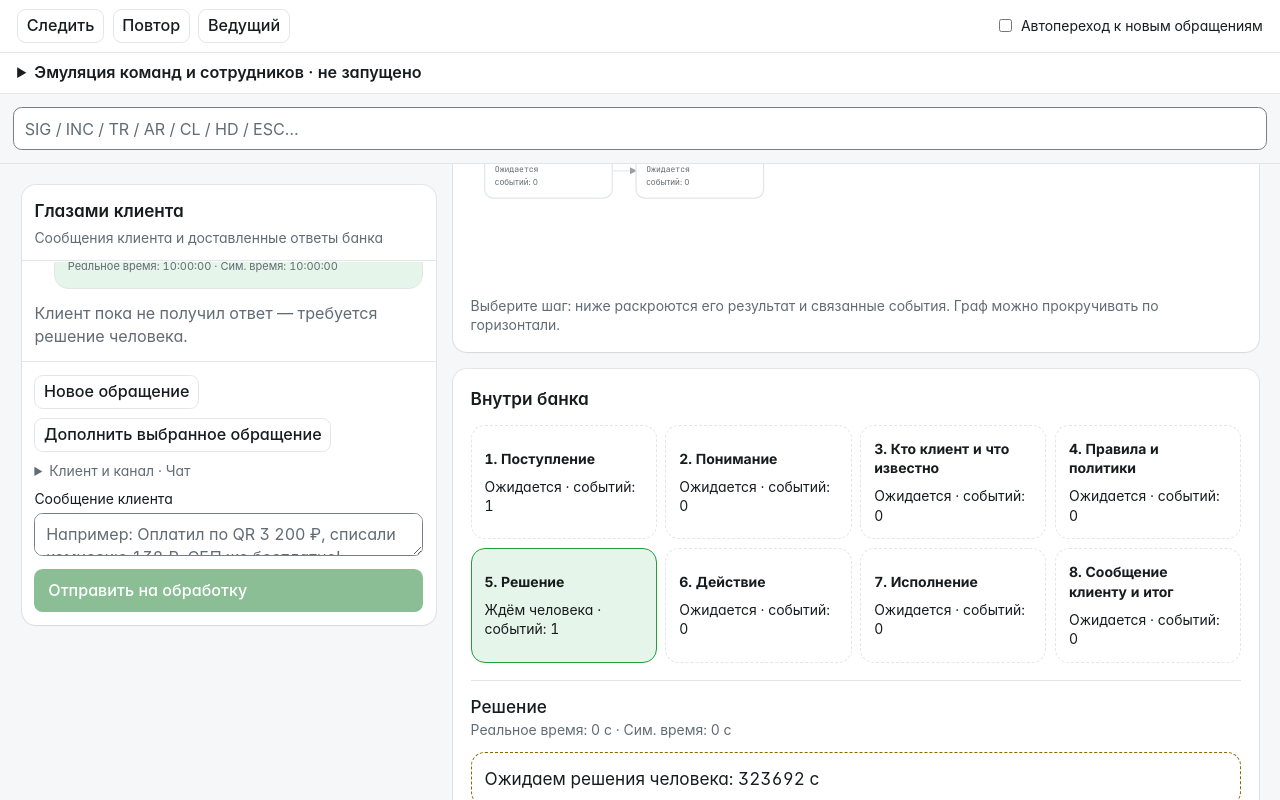
it: renders eight selectable stages, a human timer, graph and separate server CLV/dCLTV
(page scrolled)
Expected: the text "Ожидаем решения человека: 323692 с" is shown, [471,752,1241,799]
Expected: the icon named "Граф" is shown, [471,164,1241,287]
Click the button "1. Поступление Ожидается · событий: 1". click: (564, 482)
box: [471,425,657,540]
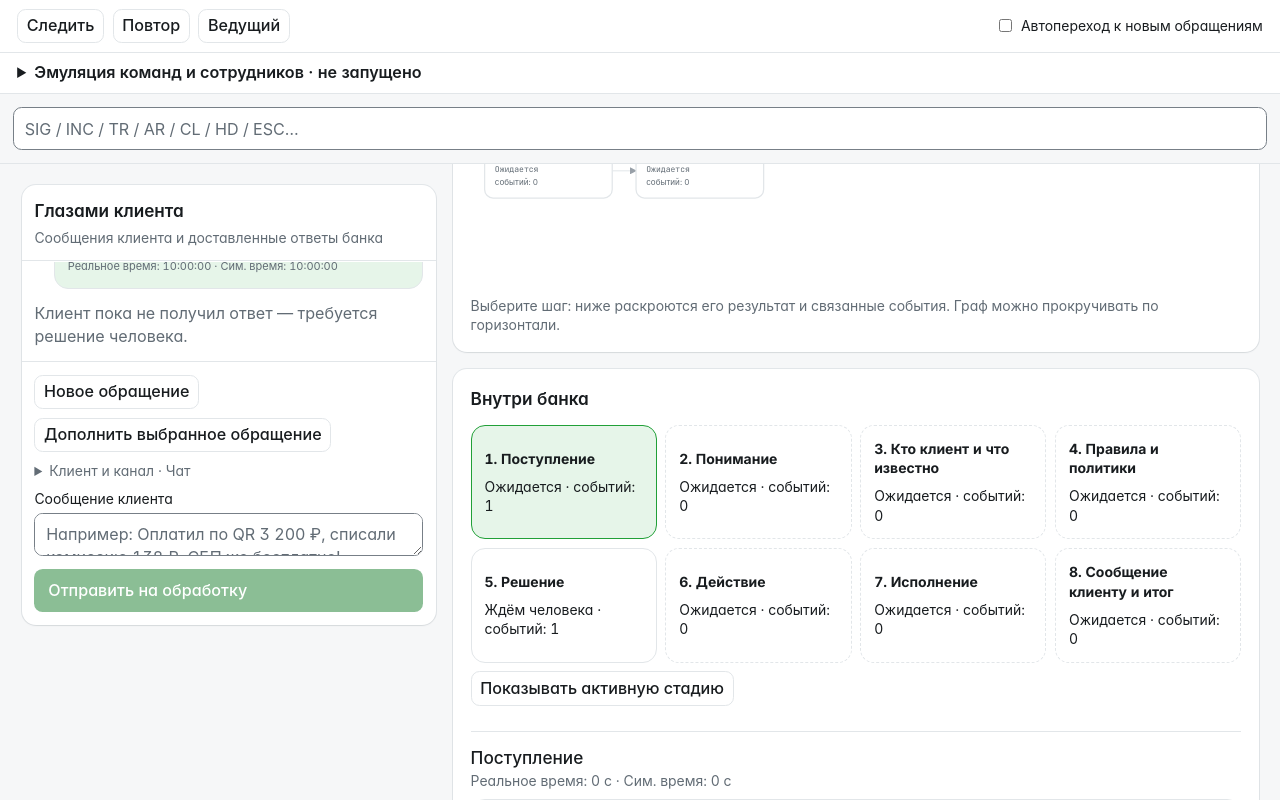
Click the button "Показывать активную стадию". click: (602, 688)
box: [471,671,734,706]
(page scrolled)
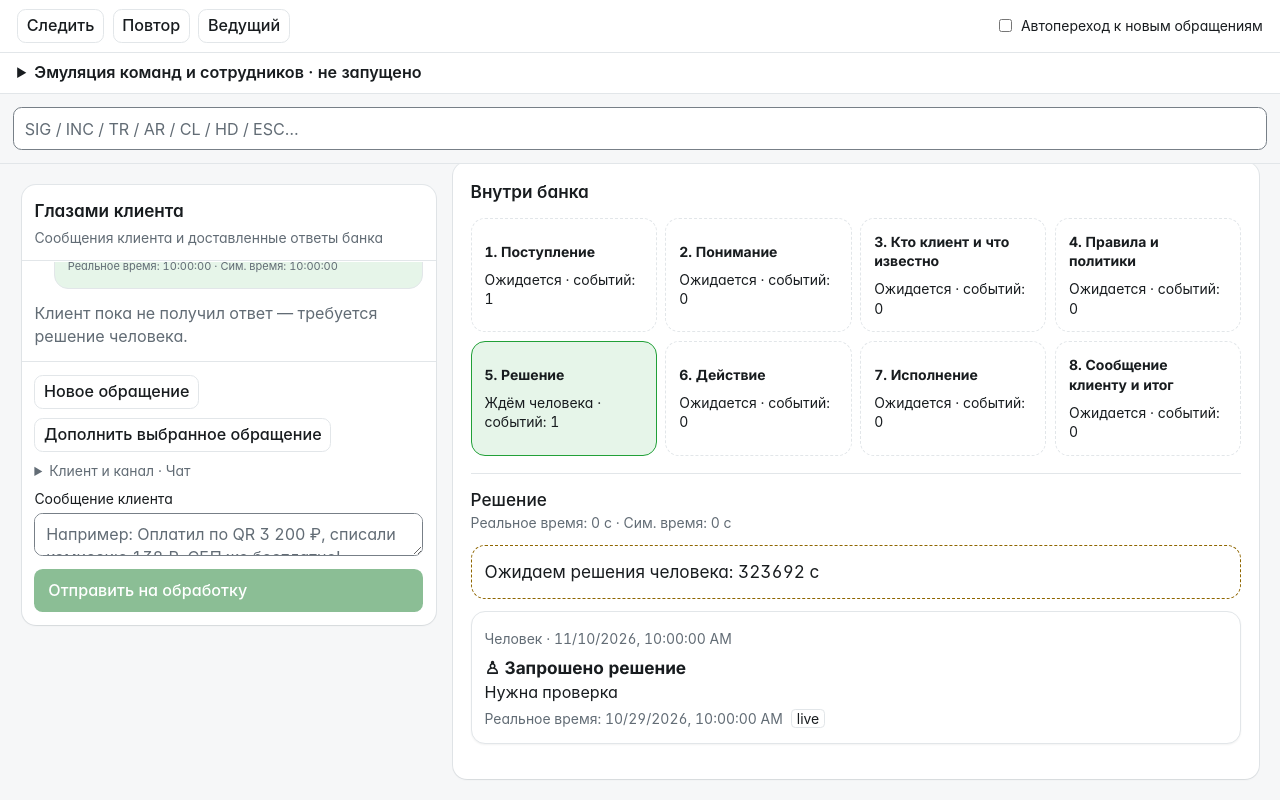
Expected: the text "♙ Запрошено решение" is shown, [484,657,686,678]
